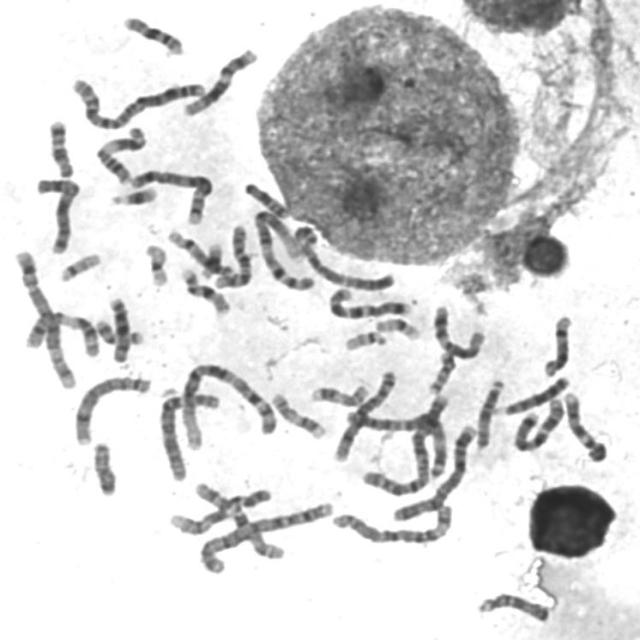A1: (174, 357, 278, 450), (248, 204, 316, 293)
A2: (346, 399, 451, 493), (67, 72, 208, 131)
A3: (341, 404, 451, 481), (289, 220, 397, 292)
B4: (194, 497, 335, 576), (388, 419, 480, 523)
B5: (9, 245, 79, 392), (125, 164, 214, 226)
C10: (190, 478, 288, 562), (211, 219, 253, 291)
C11: (21, 308, 103, 360), (91, 122, 149, 185)
C12: (178, 43, 261, 119), (429, 300, 487, 362)
C6: (154, 388, 220, 482), (328, 502, 457, 546)
C7: (509, 394, 566, 454), (325, 284, 414, 320)
C8: (329, 365, 399, 464), (68, 371, 154, 447)
C9: (164, 483, 274, 537), (559, 387, 609, 463)
D13: (494, 372, 572, 417), (105, 292, 132, 364)
D14: (163, 225, 234, 278), (539, 310, 575, 379)
D15: (471, 373, 508, 453), (472, 589, 552, 625)
E16: (118, 11, 186, 57), (176, 264, 233, 318)
E17: (267, 388, 329, 440), (306, 380, 372, 408)
E18: (239, 178, 291, 220), (44, 116, 76, 180)
F19: (371, 313, 423, 342), (140, 240, 170, 288)
F20: (91, 314, 147, 348), (424, 348, 458, 396)
G21: (106, 183, 160, 208), (197, 238, 225, 280)
G22: (55, 248, 104, 284), (340, 326, 390, 352)
X: (31, 172, 85, 256)
Y: (88, 438, 120, 498)
